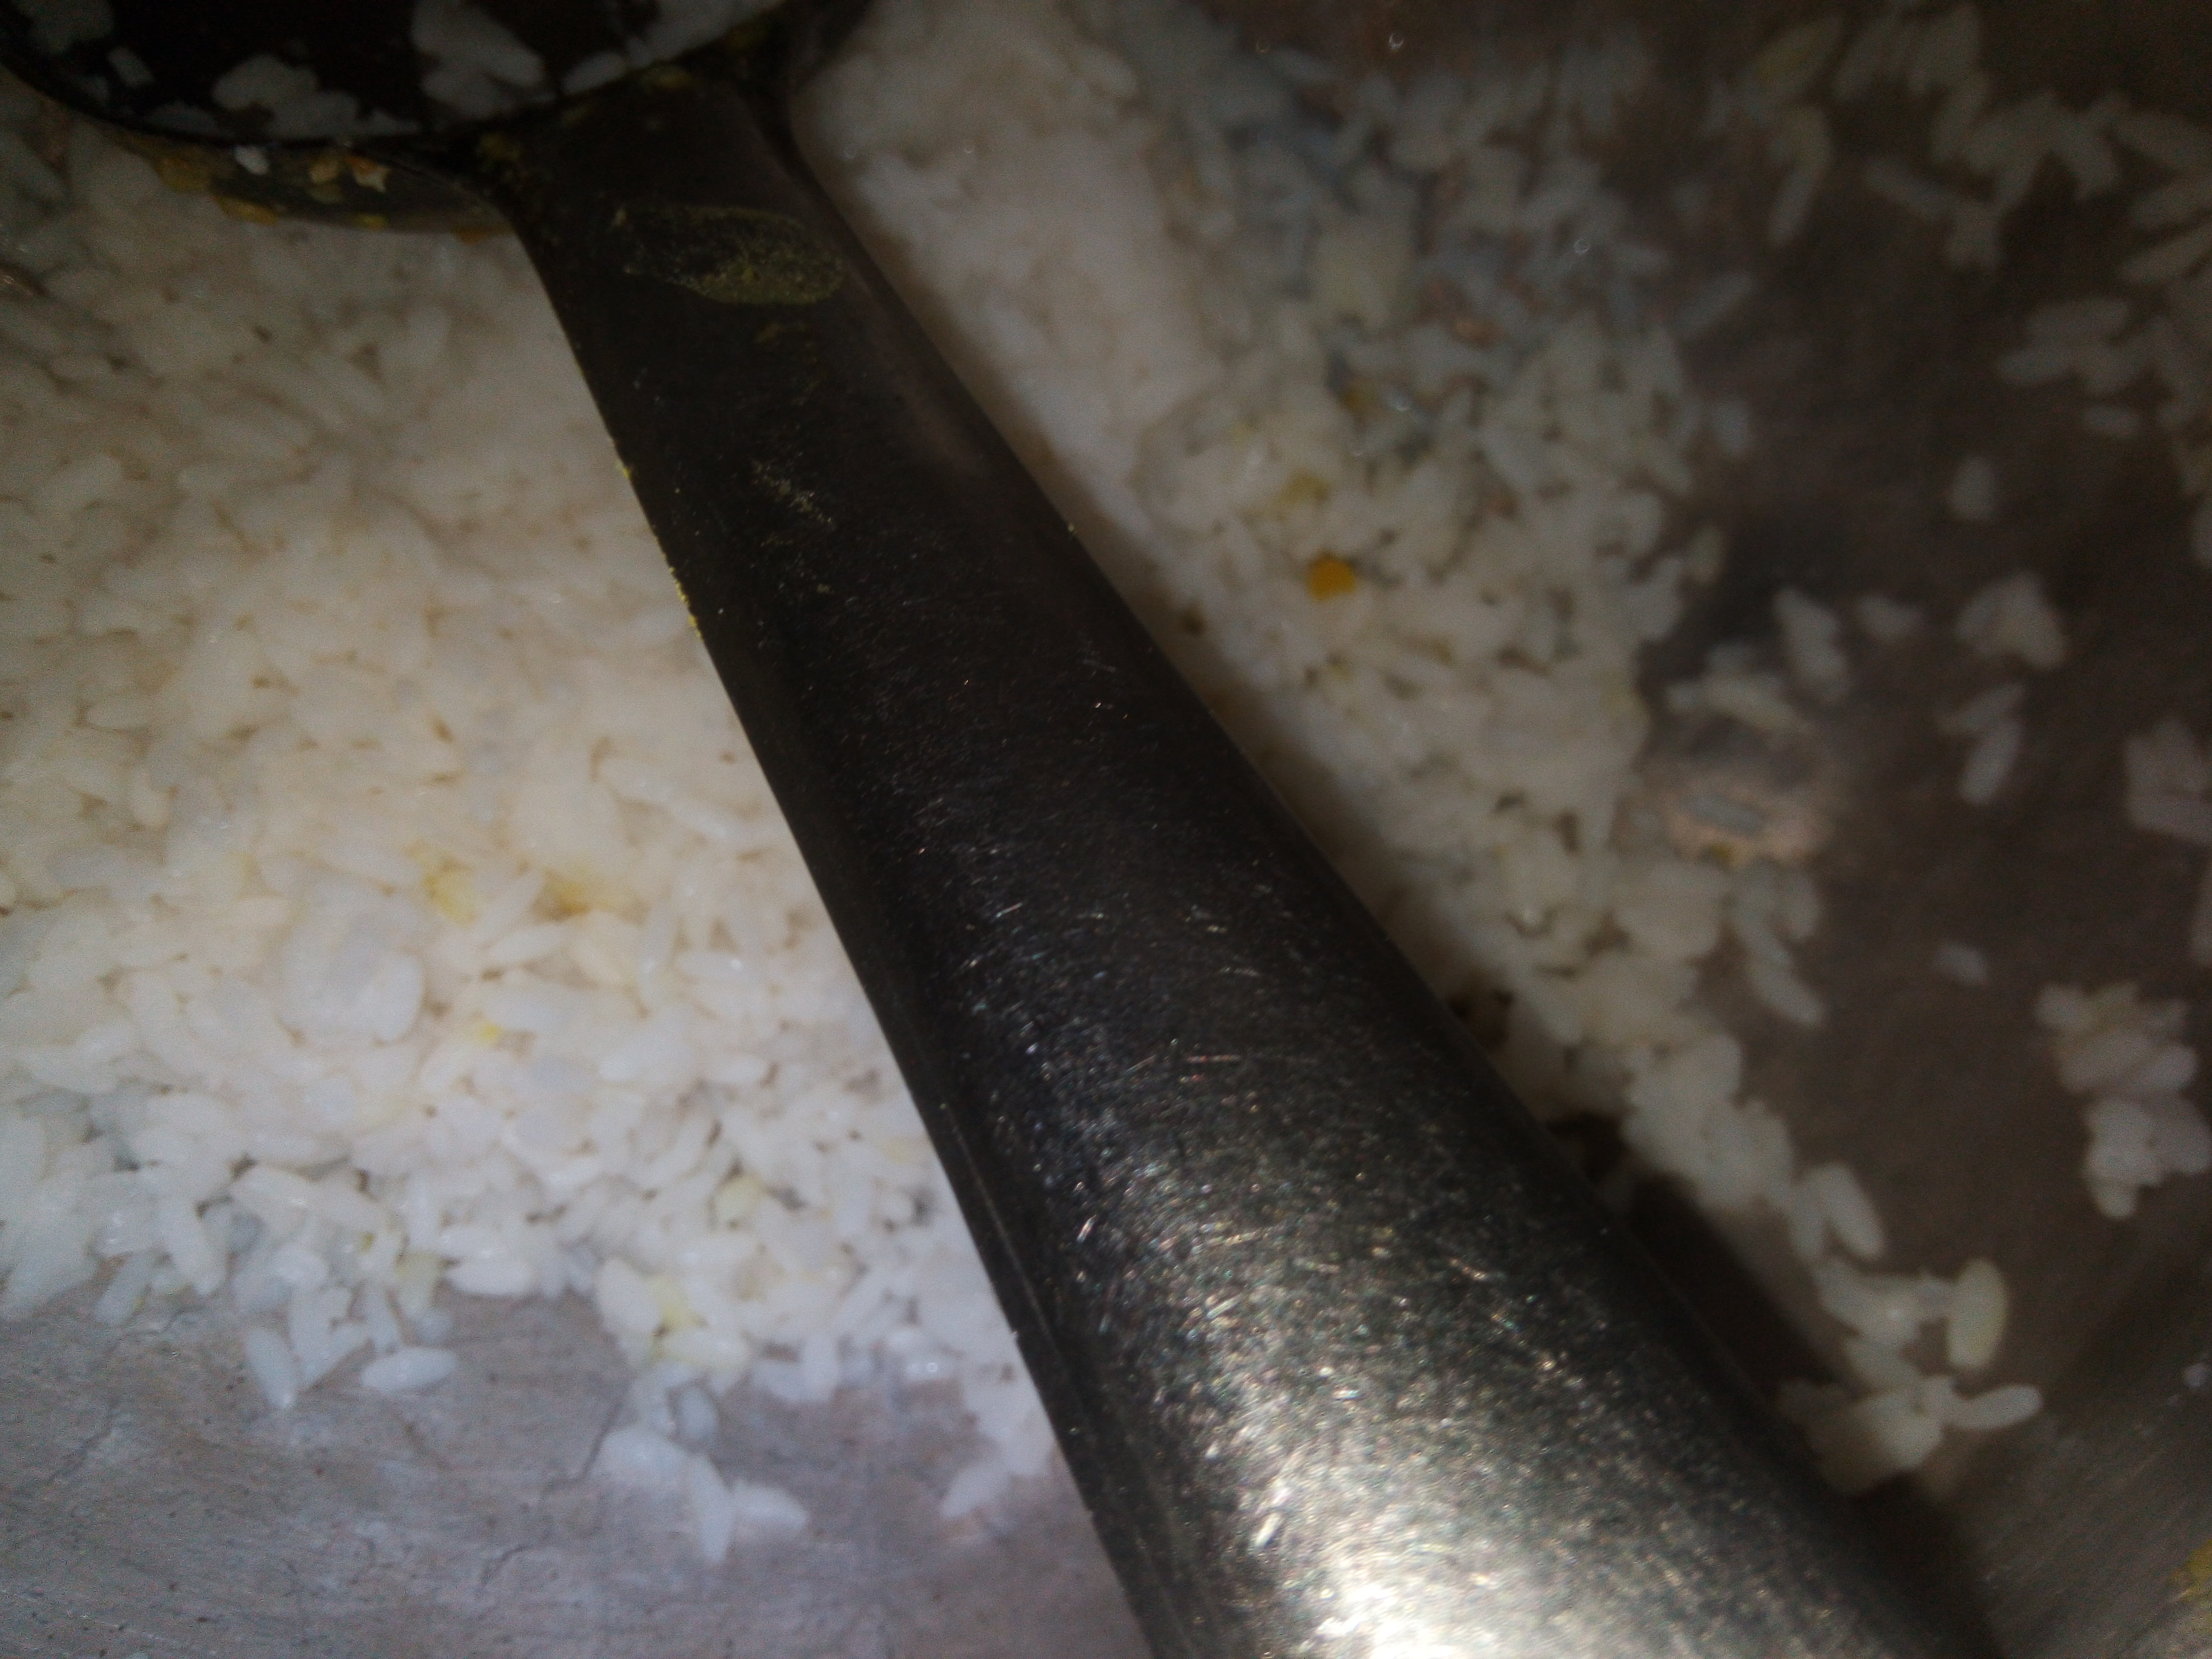food: (3, 0, 2212, 1659)
